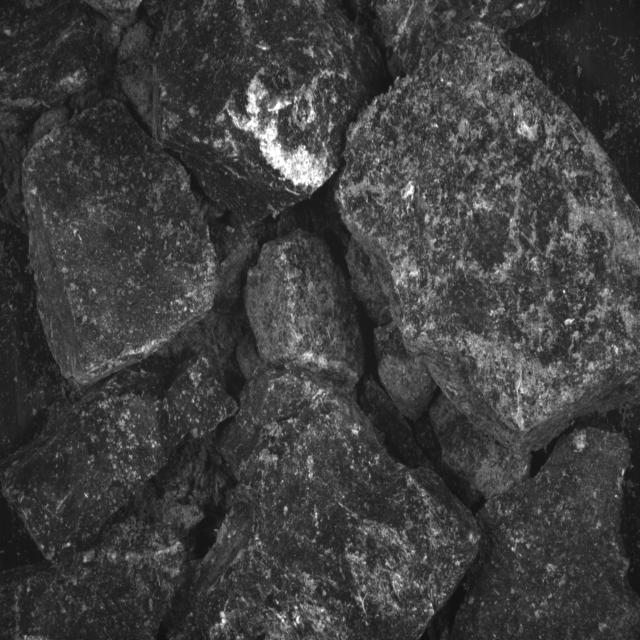Stones: (339, 23, 640, 453), (182, 371, 480, 639), (24, 101, 216, 385), (155, 1, 385, 224), (4, 349, 237, 563), (452, 428, 640, 640), (246, 230, 365, 392), (1, 540, 186, 640), (374, 1, 546, 79), (1, 1, 107, 113), (430, 395, 531, 510), (375, 324, 437, 420)
